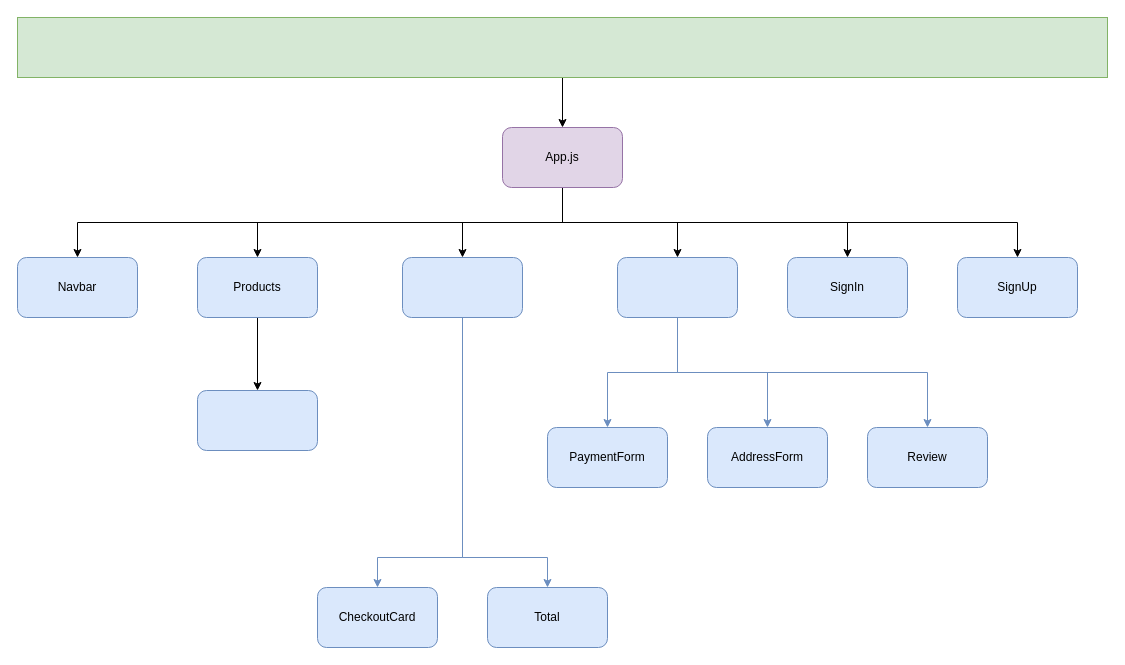
Image size: 1125x665. Some labels were removed from this diagram. Here are the shapes that lost their labels. From the top down, the box of each, then its label:
(16, 16, 1108, 78): Ecommerce in React JS - Structure and Architecture
(402, 256, 522, 318): CheckoutPage
(616, 256, 738, 318): Checkout
(196, 390, 318, 450): Product
